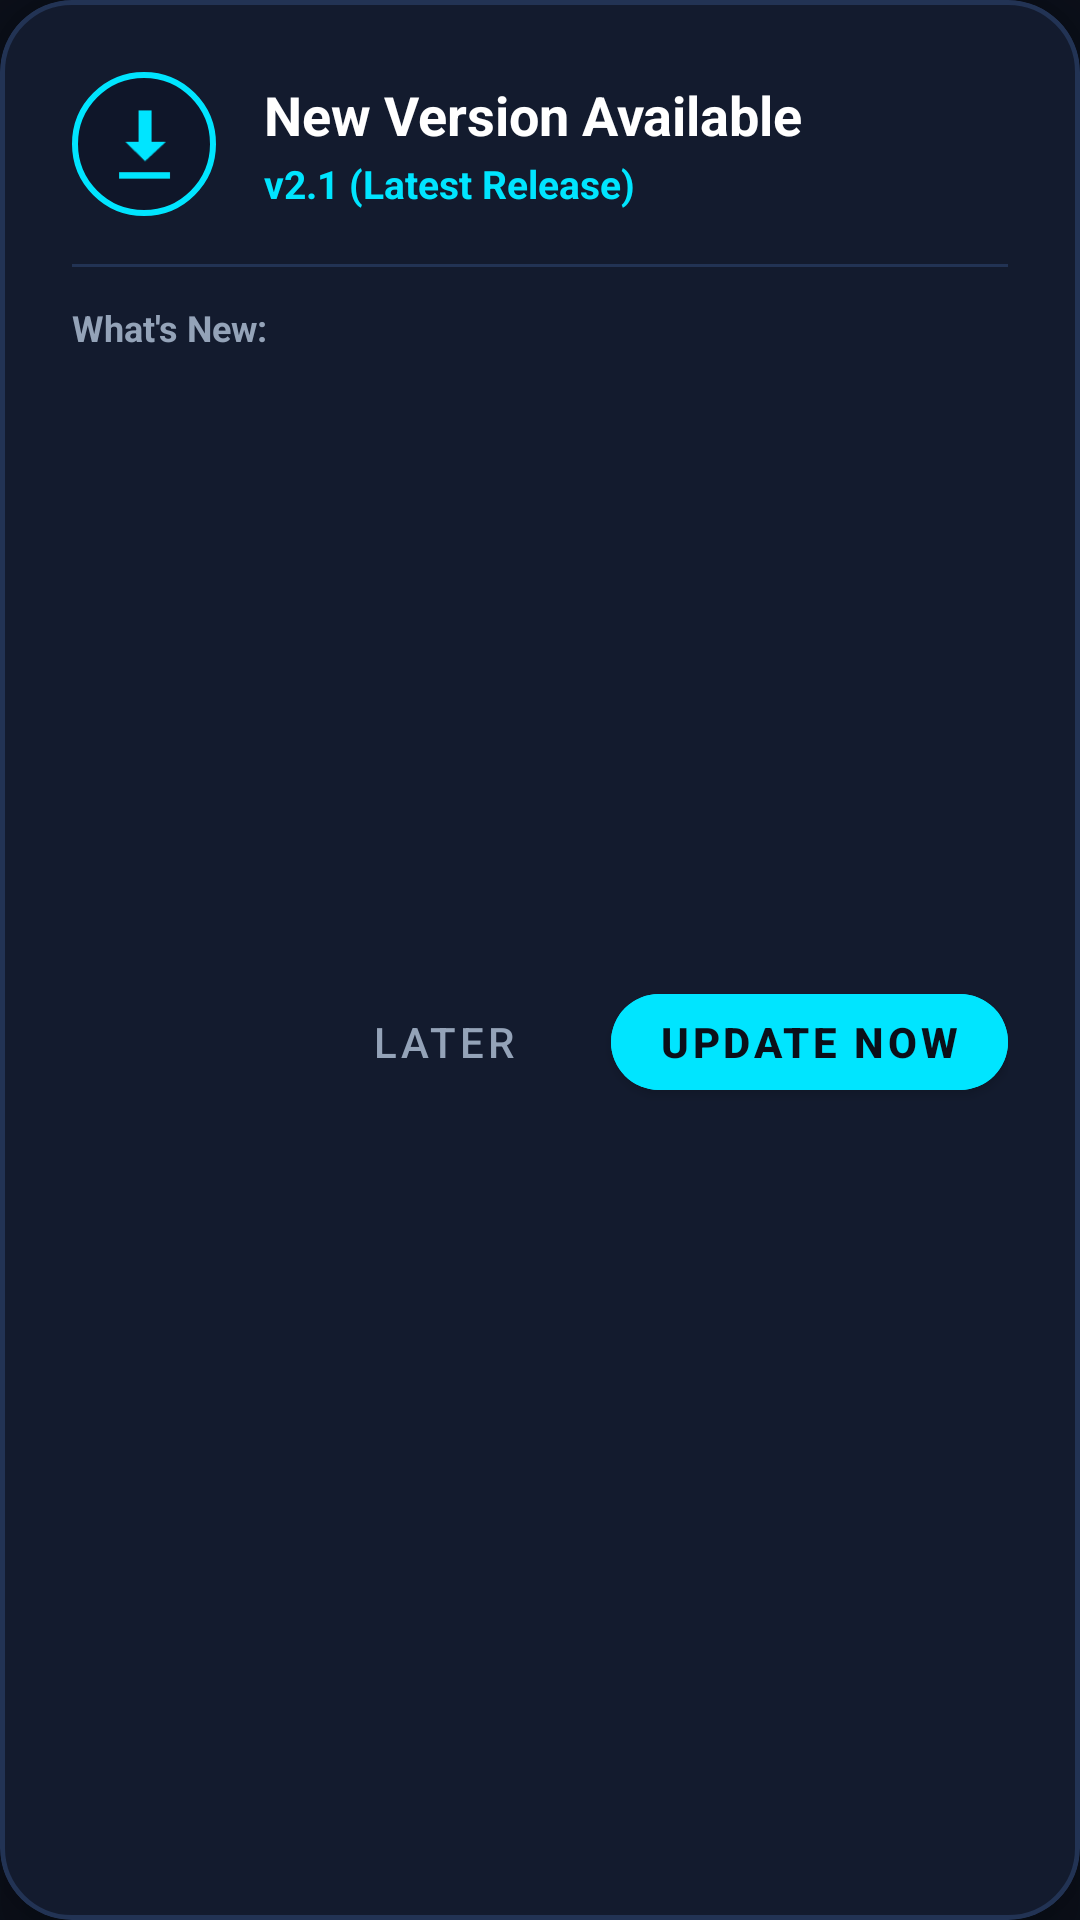

Icons on this 1080 × 1920 Android screen, each with its box as [x1=x1, y1=y1, x2=x2, y2=y2]:
download: [x1=119, y1=110, x2=170, y2=179]
